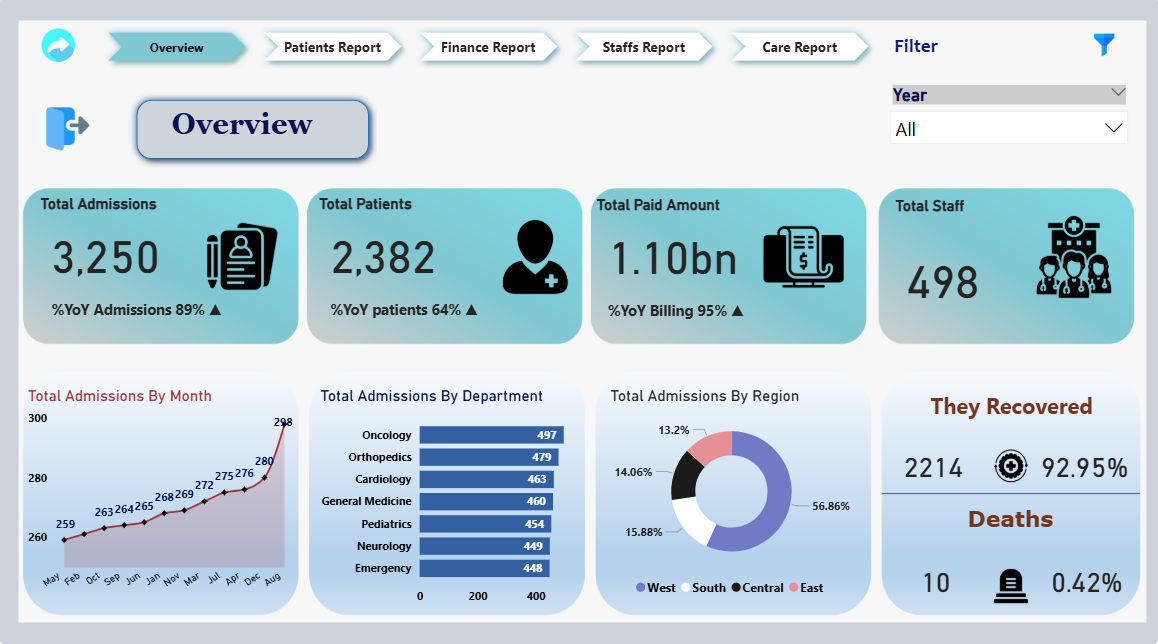

The page's visual inventory and layout, read from the dashboard file:
{"tool":"powerbi","page":{"name":"Overview","canvas":[1280,720],"ordinal":1},"visuals":[{"type":"cardVisual","title":"Total Patients","fields":{"Data":["_measures.Total Patiens"]},"box":[350,221.4,275.7,158.6],"z":0},{"type":"cardVisual","title":"Total Admissions","fields":{"Data":["_measures.Total Admissions"]},"box":[43.9,220.9,275.8,157.8],"z":1000},{"type":"cardVisual","title":"Total Paid Amount","fields":{"Data":["_measures.Total Paid Amount"]},"box":[654.3,222.9,275.7,157.1],"z":2000},{"type":"cardVisual","title":"Total Staff","fields":{"Data":["_measures.Total Staff"]},"box":[982.5,223.7,251.1,157.8],"z":3000},{"type":"lineChart","title":"Total Admissions By Month","fields":{"Y":["_measures.Total Admissions"],"Category":["Date_Table.Month_Name"]},"box":[30.2,432.2,300.5,238.8],"z":4000},{"type":"barChart","title":"Total Admissions By Department","fields":{"Y":["_measures.Total Admissions"],"Category":["fact_table.Department_Name"]},"box":[351.3,432.2,288.2,248.4],"z":5000},{"type":"textbox","box":[996.2,432.2,237.4,78.2],"z":6000},{"type":"textbox","box":[1052.5,557.1,122.1,52.1],"z":7000},{"type":"card","fields":{"Values":["_measures.Recover"]},"box":[971.5,485.8,115.3,65.9],"z":8000},{"type":"card","fields":{"Values":["_measures.Recover Rate"]},"box":[1137.6,485.8,115.3,65.9],"z":9000},{"type":"card","fields":{"Values":["_measures.Died"]},"box":[973.8,612.1,115.3,65.9],"z":10000},{"type":"card","fields":{"Values":["_measures.Died Rate"]},"box":[1139.9,612.1,115.3,65.9],"z":11000},{"type":"donutChart","title":"Total Admissions By Region","fields":{"Category":["fact_table.Region"],"Y":["_measures.Total Admissions"]},"box":[669.6,432.2,275.8,238.8],"z":12000},{"type":"image","box":[44.3,121.4,70,57.1],"z":13000},{"type":"slicer","fields":{"Values":["Date_Table.Year"]},"box":[971.4,95.7,281.4,80],"z":14000},{"type":"image","box":[1197.1,40,40,34.3],"z":15000},{"type":"textbox","box":[981.4,40,92.9,44.3],"z":16000},{"type":"pageNavigator","box":[113.9,34.3,857.6,49.4],"z":17000},{"type":"image","box":[43.9,32.9,49.4,49.4],"z":18000},{"type":"shape","box":[145.7,108.6,272.9,82.9],"z":19000},{"type":"textbox","box":[188.6,121.4,195.7,57.1],"z":20000}]}

Visuals, with their boxes in screenshot pixels (x1, y1, x2, y2), scaled from the page's 1280x720 canvas onto the 1158x644 screenshot:
"Total Patients" cardVisual: 317,198,566,340
"Total Admissions" cardVisual: 40,198,289,339
"Total Paid Amount" cardVisual: 592,199,841,340
"Total Staff" cardVisual: 889,200,1116,341
"Total Admissions By Month" lineChart: 27,387,299,600
"Total Admissions By Department" barChart: 318,387,579,609
textbox: 901,387,1116,457
textbox: 952,498,1063,545
card - _measures.Recover: 879,435,983,493
card - _measures.Recover Rate: 1029,435,1133,493
card - _measures.Died: 881,547,985,606
card - _measures.Died Rate: 1031,547,1136,606
"Total Admissions By Region" donutChart: 606,387,855,600
image: 40,109,103,160
slicer - Date_Table.Year: 879,86,1133,157
image: 1083,36,1119,66
textbox: 888,36,972,75
pageNavigator: 103,31,879,75
image: 40,29,84,74
shape: 132,97,379,171
textbox: 171,109,348,160
